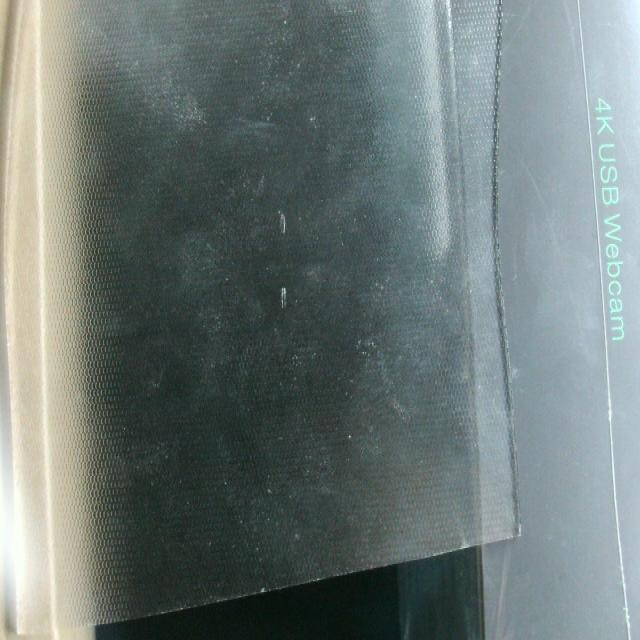uneven edge: (485, 0, 527, 552)
very small scratch: (271, 195, 291, 240), (276, 273, 294, 312)
